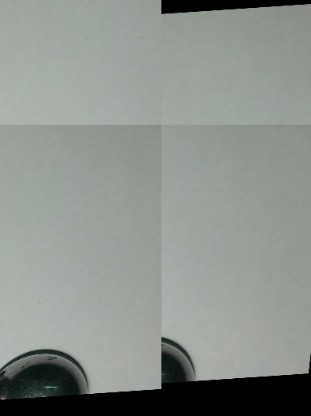ironball: (0, 339, 88, 392)
